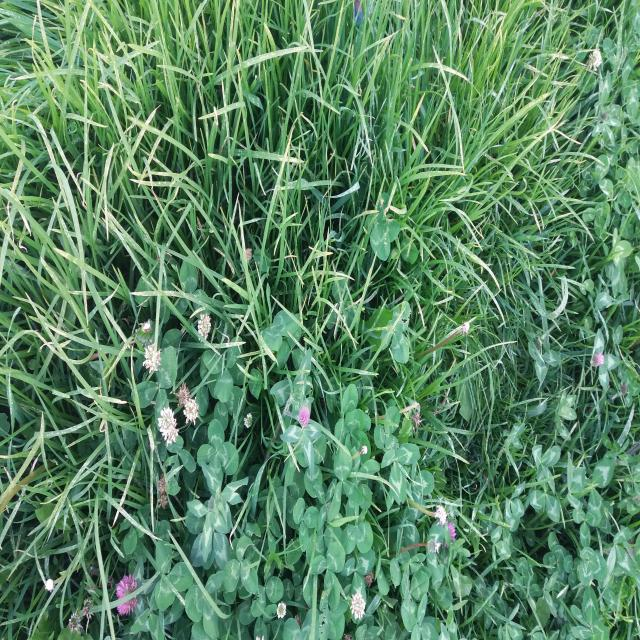Four Leaf Clover: (197, 419, 238, 488)
